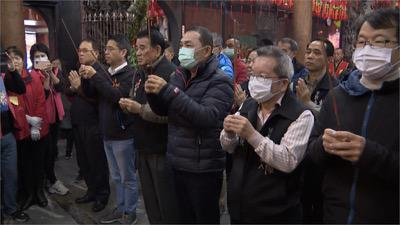with_mask: (351, 29, 397, 79), (248, 68, 279, 103), (178, 39, 205, 70), (222, 40, 236, 60), (33, 52, 48, 68)
without_mask: (303, 47, 325, 69), (134, 42, 151, 67), (78, 46, 95, 65), (104, 44, 119, 63), (8, 54, 21, 71), (332, 51, 342, 62)
